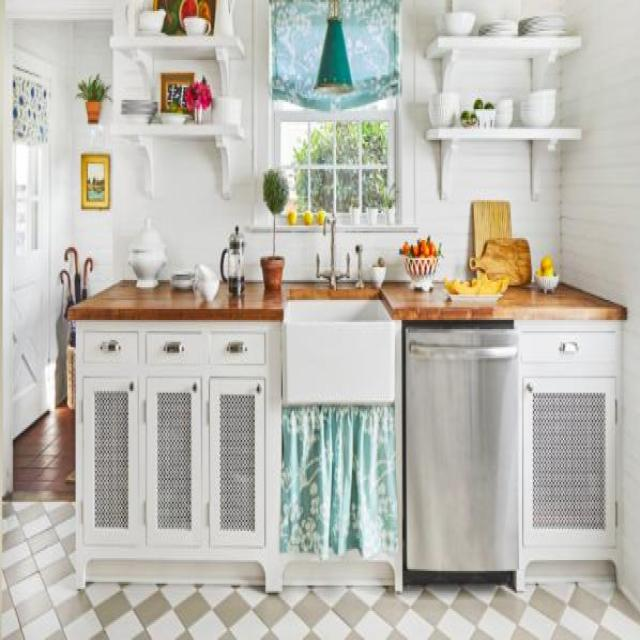dishwasher: (404, 318, 519, 582)
